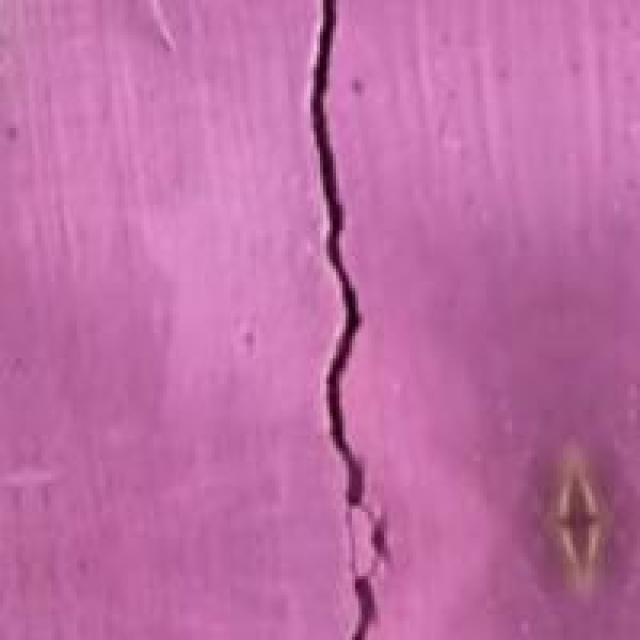crack: (230, 3, 454, 637)
